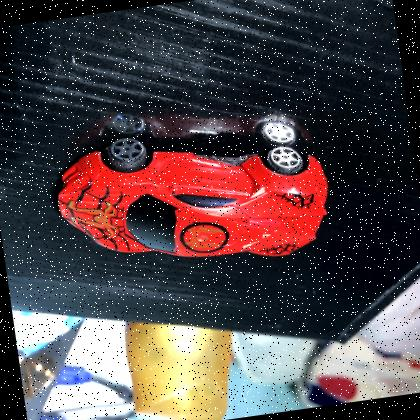Car: (40, 100, 346, 295)
